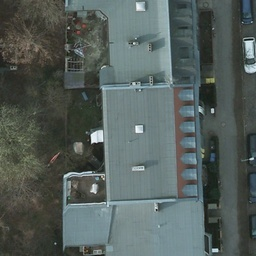car: (238, 0, 253, 24)
